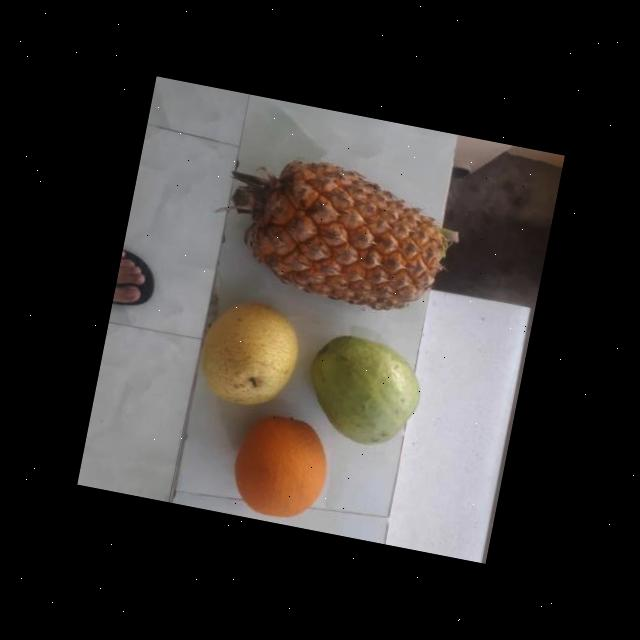guava: (300, 324, 425, 451)
orange: (229, 406, 336, 526)
pear: (191, 289, 306, 414)
pineapple: (242, 153, 458, 312)
